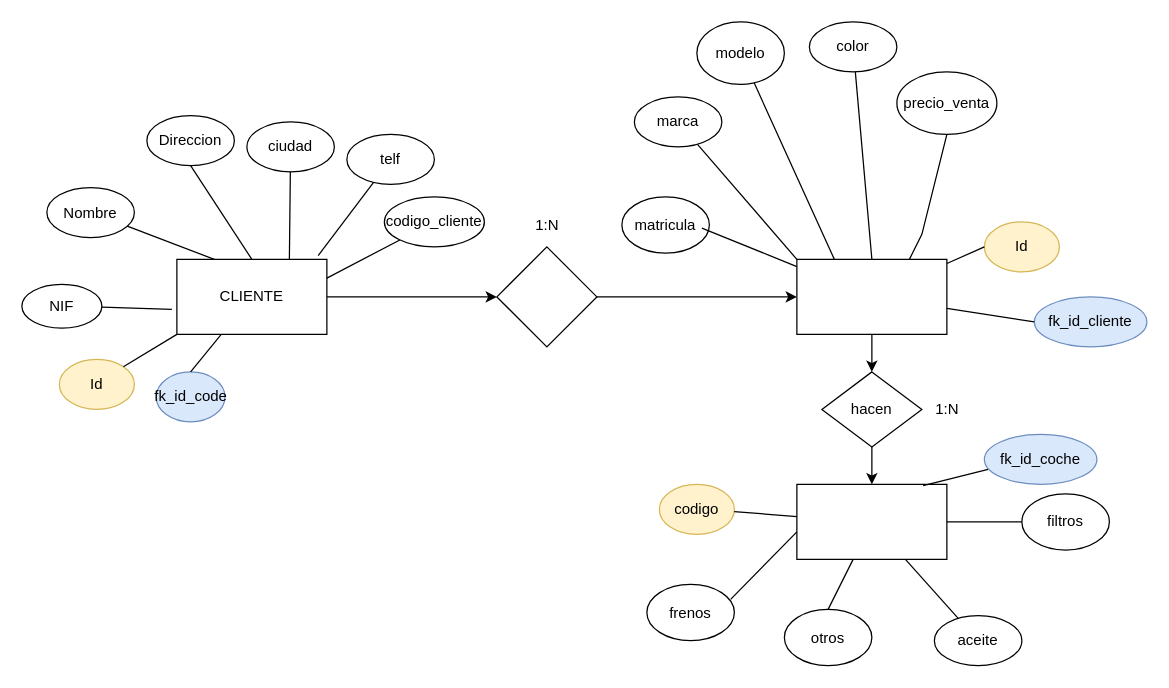
Some shapes in this 1169 by 688 pixel diagram are drawn without their labels. Each missing label, with the box of its shape:
COCHES: (796, 258, 947, 334)
comprar: (496, 246, 597, 347)
REVISIONES: (796, 483, 947, 559)
